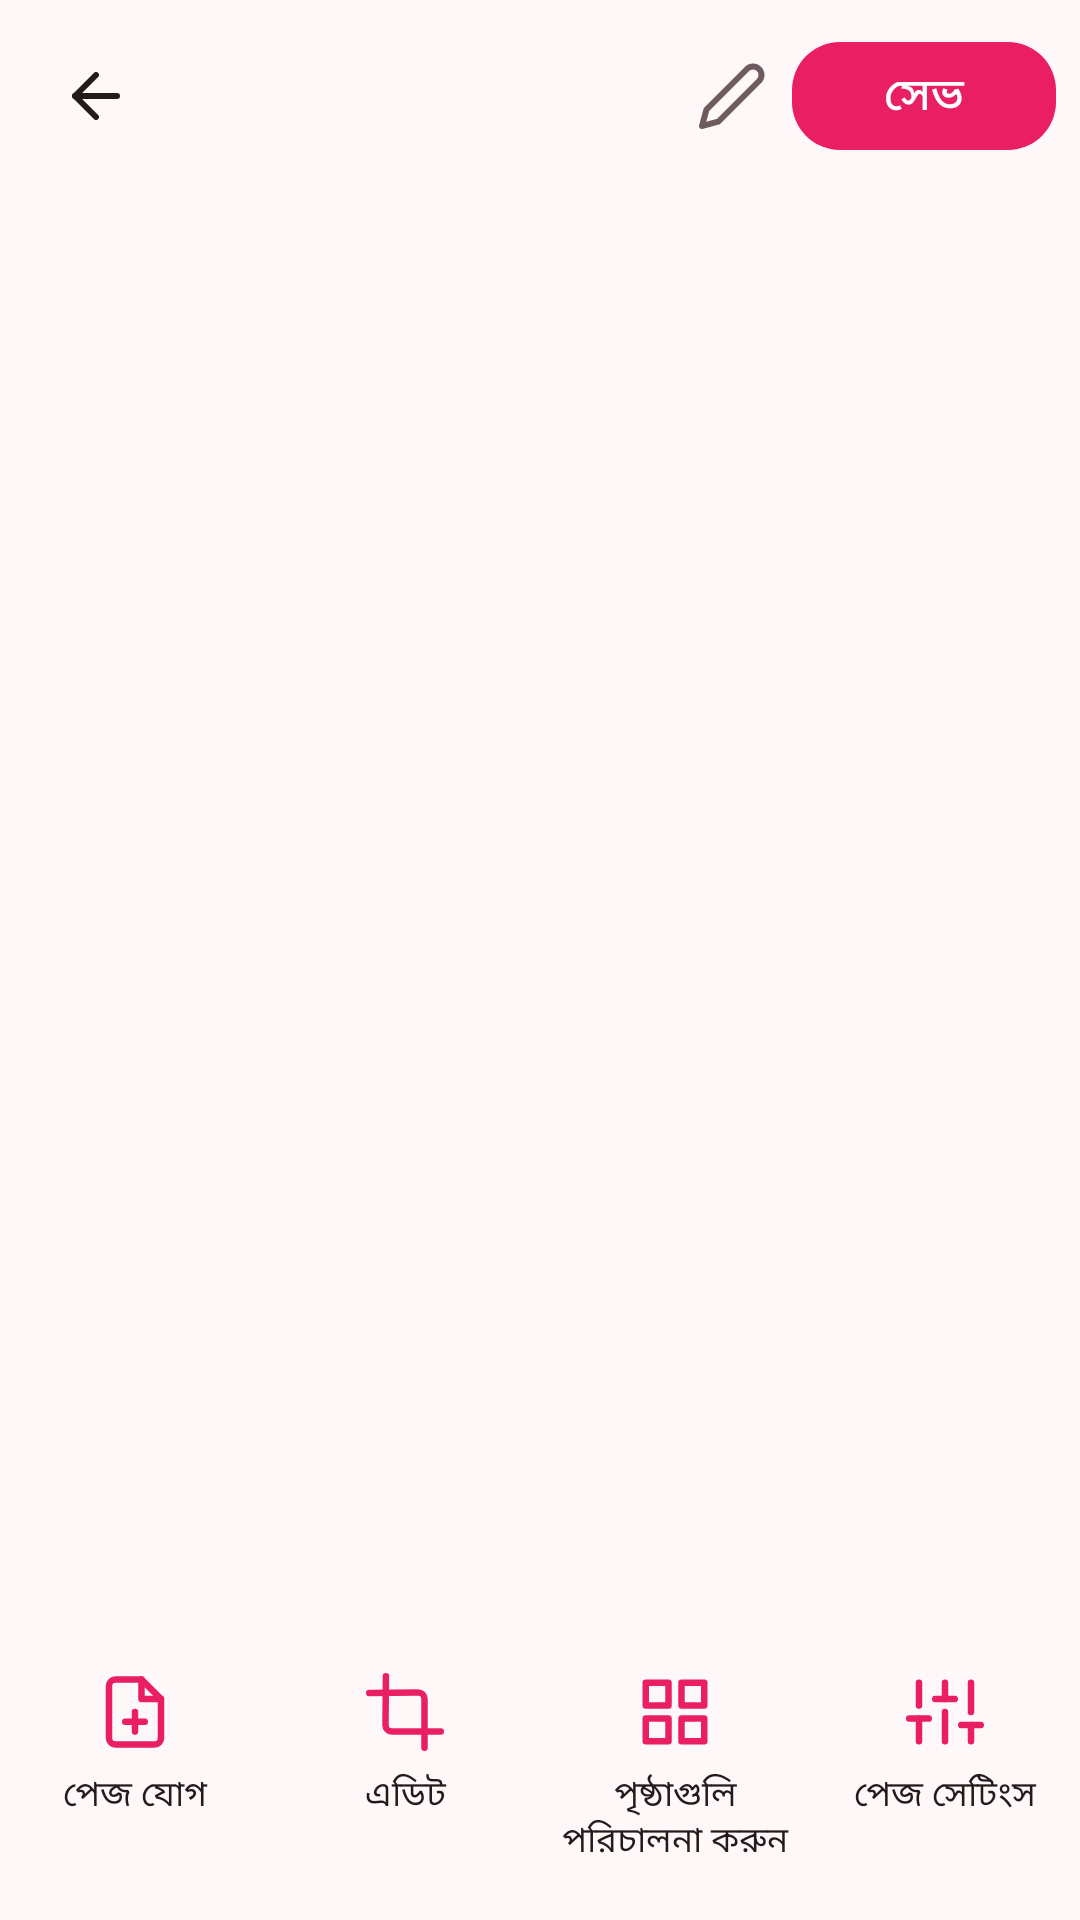

Icons on this 1080 × 1920 Android screen, each with its box as (x1, y1, x2, y2):
apps: (642, 1679, 708, 1745)
crop: (366, 1673, 444, 1751)
tune: (906, 1679, 984, 1745)
বাতিল: (72, 72, 120, 120)
